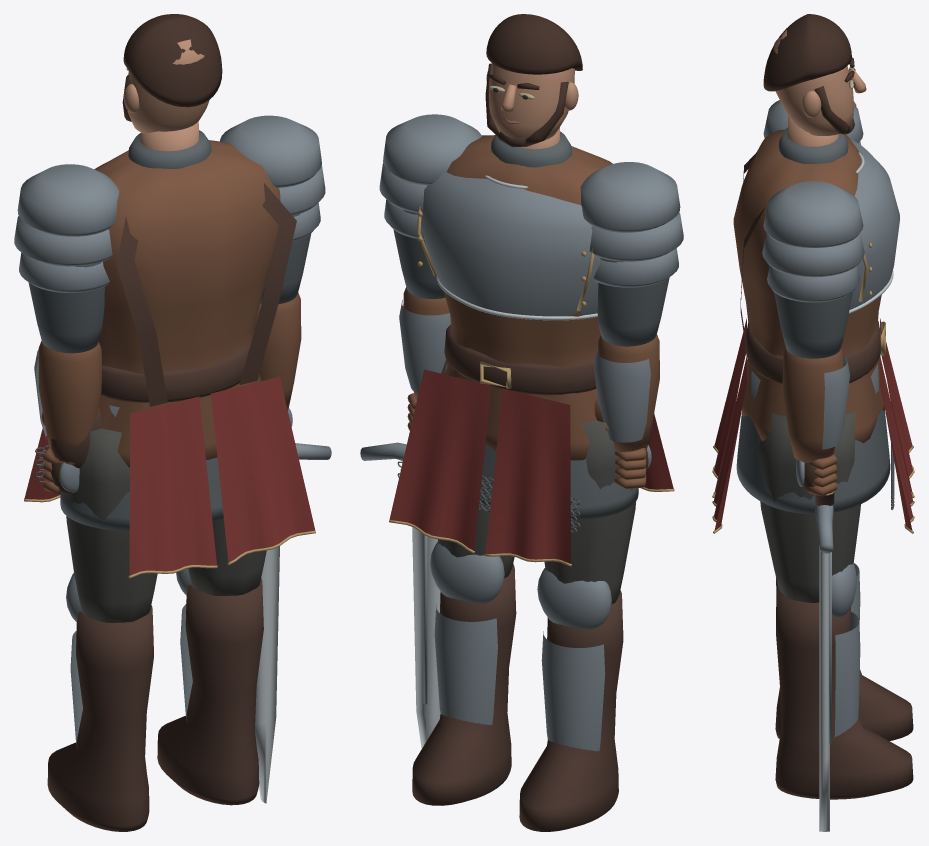
The model's file is warrior.glb.
The picture shows the model from 3 angles, left to right: view 1: azimuth 30°, elevation 25°; view 2: azimuth 150°, elevation 25°; view 3: azimuth 270°, elevation 25°; orthographic projection. The views are drawn at different scales.
Parts seen in each view (by area): view 1: Torso Jubón de avellana, Torso Paño granate, LegRight Cuero encerado, LegLeft Cuero encerado, Torso Cuero encerado, UpperLeft Acero templado, LegLeft Calzas de carbón, Head Cabello castaño, UpperRight Acero templado, ForeLeft Jubón de avellana, Sword Filos bruñidos, Torso Anillas oscuras (+8 smaller); view 2: Torso Paño granate, Torso Acero templado, Torso Jubón de avellana, UpperLeft Acero templado, LegLeft Cuero encerado, LegRight Cuero encerado, LegLeft Acero templado, LegRight Acero templado, UpperRight Acero templado, LegLeft Calzas de carbón, Head Cabello castaño, Torso Anillas oscuras (+14 smaller); view 3: LegRight Cuero encerado, Torso Jubón de avellana, UpperRight Acero templado, LegRight Calzas de carbón, Torso Anillas oscuras, Torso Paño granate, Head Cabello castaño, Torso Acero templado, ForeRight Jubón de avellana, Head Piel tostada, UpperRight Anillas oscuras, LegRight Acero templado (+8 smaller).
Part boxes in pixels (bbox=[...]): Torso Jubón de avellana: bbox=[41, 140, 280, 467]; Torso Paño granate: bbox=[24, 376, 315, 575]; LegRight Cuero encerado: bbox=[157, 578, 263, 805]; LegLeft Cuero encerado: bbox=[47, 605, 153, 831]; Torso Cuero encerado: bbox=[51, 183, 296, 468]; UpperLeft Acero templado: bbox=[14, 164, 119, 292]; LegLeft Calzas de carbón: bbox=[66, 428, 157, 622]; Head Cabello castaño: bbox=[122, 14, 222, 121]; UpperRight Acero templado: bbox=[220, 115, 325, 241]; ForeLeft Jubón de avellana: bbox=[38, 341, 101, 464]; Sword Filos bruñidos: bbox=[255, 546, 279, 803]; Torso Anillas oscuras: bbox=[35, 130, 223, 531]; Torso Paño granate: bbox=[389, 369, 673, 563]; Torso Acero templado: bbox=[421, 172, 600, 316]; Torso Jubón de avellana: bbox=[441, 135, 612, 460]; UpperLeft Acero templado: bbox=[580, 162, 683, 287]; LegLeft Cuero encerado: bbox=[519, 590, 623, 831]; LegRight Cuero encerado: bbox=[412, 564, 516, 805]; LegLeft Acero templado: bbox=[537, 568, 611, 751]; LegRight Acero templado: bbox=[430, 542, 504, 725]; UpperRight Acero templado: bbox=[379, 114, 481, 239]; LegLeft Calzas de carbón: bbox=[544, 420, 635, 604]; Head Cabello castaño: bbox=[485, 14, 582, 147]; Torso Anillas oscuras: bbox=[397, 131, 638, 533]; LegRight Cuero encerado: bbox=[775, 585, 913, 799]; Torso Jubón de avellana: bbox=[733, 129, 884, 443]; UpperRight Acero templado: bbox=[762, 181, 864, 302]; LegRight Calzas de carbón: bbox=[757, 412, 860, 602]; Torso Anillas oscuras: bbox=[736, 127, 894, 514]; Torso Paño granate: bbox=[714, 318, 912, 530]; Head Cabello castaño: bbox=[763, 14, 854, 134]; Torso Acero templado: bbox=[849, 139, 899, 309]; ForeRight Jubón de avellana: bbox=[782, 348, 843, 463]; Head Piel tostada: bbox=[773, 30, 866, 146]; UpperRight Anillas oscuras: bbox=[774, 292, 852, 358]; LegRight Acero templado: bbox=[832, 563, 860, 737].
Bounding box in the file's own units: 0.7755 × 1.91 × 0.4576.
